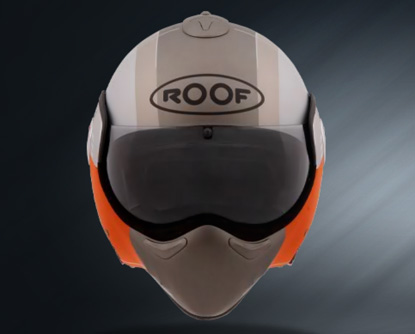helmet: (91, 30, 325, 269)
